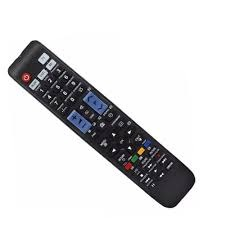remote control: (0, 37, 203, 210)
